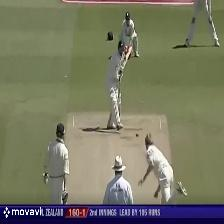ball: (134, 132, 140, 138)
batsman: (105, 38, 133, 134)
